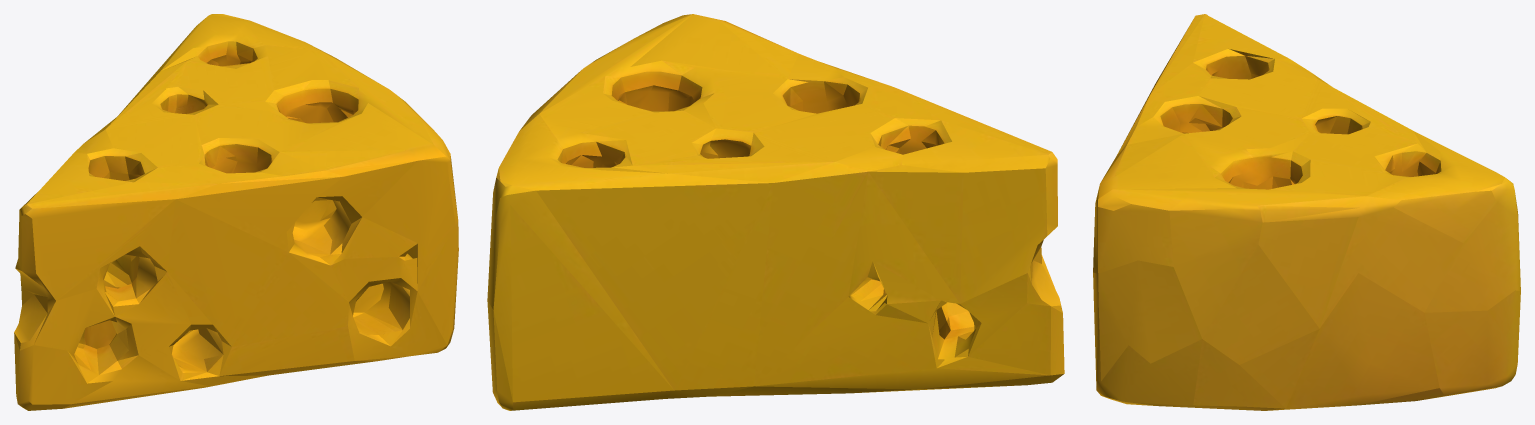
Rendered from cheese.glb.
3 renders of one model, left to right at view 1: azimuth 30°, elevation 25°; view 2: azimuth 150°, elevation 25°; view 3: azimuth 270°, elevation 25°, orthographic. The views are drawn at different scales.
Bounding box in the file's own units: 1.9 × 0.9297 × 1.69.
1 material, 1 textured.
